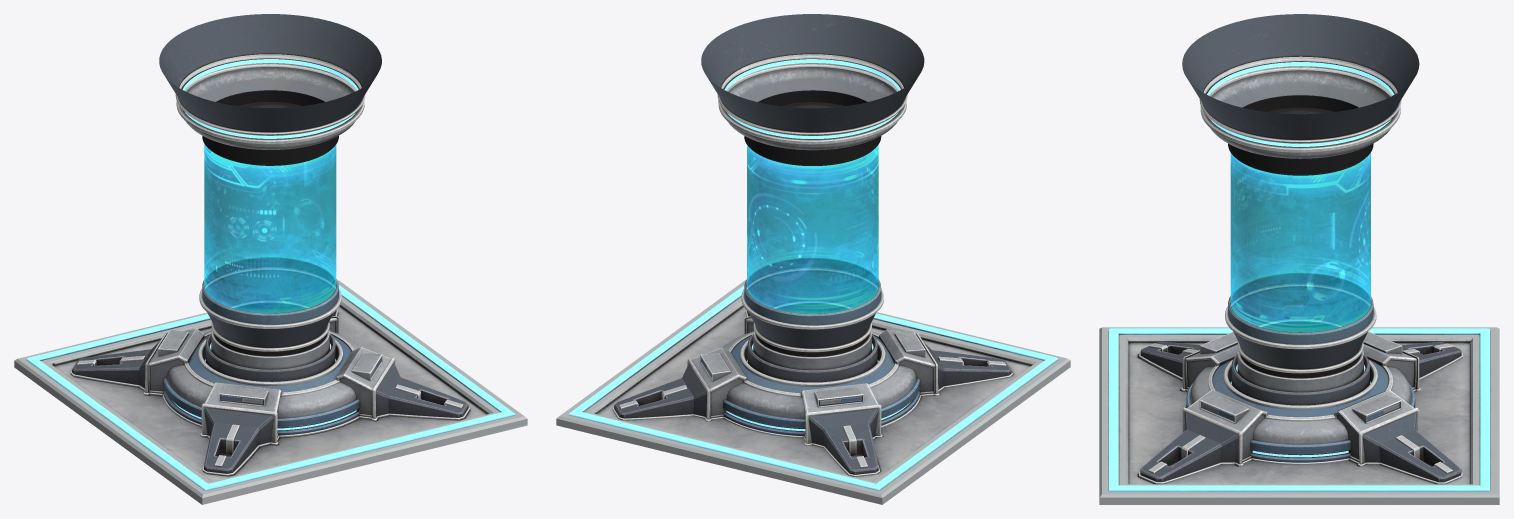
The model's file is lab_tube.glb.
3 renders of one model, left to right at view 1: azimuth 30°, elevation 25°; view 2: azimuth 150°, elevation 25°; view 3: azimuth 270°, elevation 25°, orthographic. The views are drawn at different scales.
Parts seen in each view (by area): view 1: prop; view 2: prop; view 3: prop.
Boxes of the visible parts, x1,y1,x2,y2 form: prop: (14, 14, 527, 504); prop: (556, 14, 1070, 504); prop: (1099, 14, 1499, 504).
Size of the model in its own units: 4 by 3.93 by 4.
3 materials, 3 textured.
